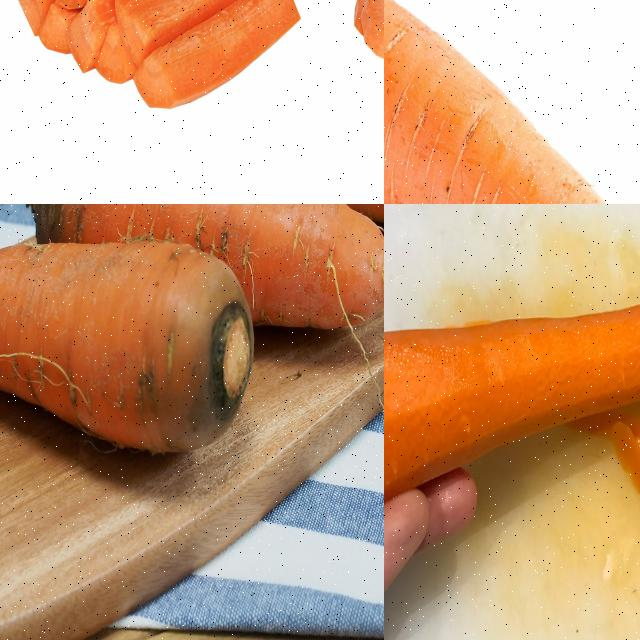carrot: (384, 265, 639, 512), (0, 239, 250, 458), (384, 0, 639, 203), (27, 204, 383, 342), (16, 0, 300, 114)
